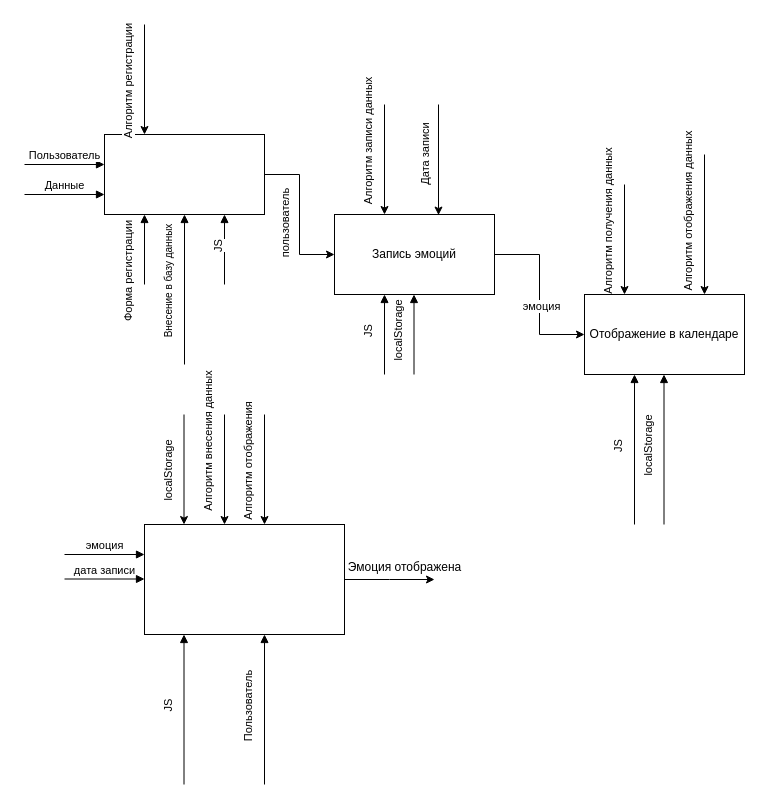
Image size: 762x810. Some labels were removed from this diagram. The shapes that lost their labels are listed below. From the top down, each one's centre as x and y in pixels, then its label:
(184,174): Регистрация пользователя
(244,579): Календарь эмоций
